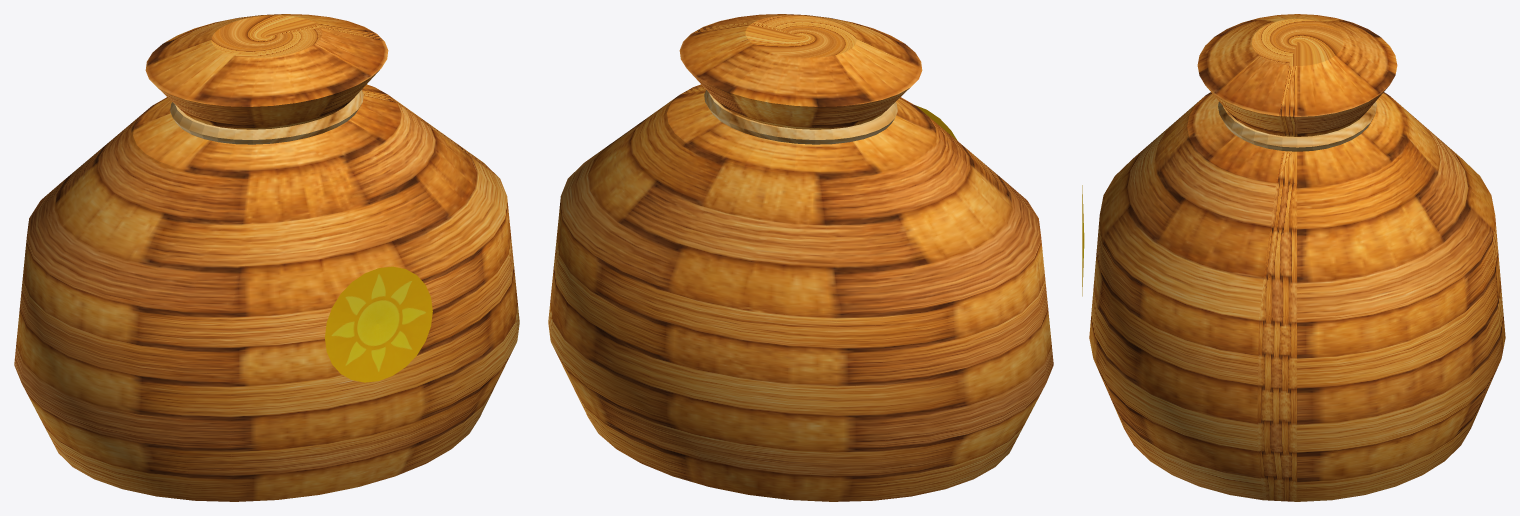
Rendered from treasure_pouch-LJAQhxwT.glb.
The picture shows the model from 3 angles, left to right: view 1: azimuth 30°, elevation 25°; view 2: azimuth 150°, elevation 25°; view 3: azimuth 270°, elevation 25°; orthographic projection. The views are drawn at different scales.
Visible parts, largest first — view 1: HI_treasure_pouch; view 2: HI_treasure_pouch; view 3: HI_treasure_pouch.
Boxes of the visible parts, x1,y1,x2,y2 form: HI_treasure_pouch: (14,14,519,501); HI_treasure_pouch: (548,14,1053,501); HI_treasure_pouch: (1082,14,1505,501).
Bounding box in the file's own units: 0.72 × 0.6 × 0.6.
Materials: 3 (3 with a texture image).
